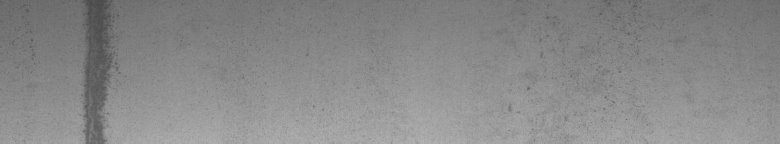hd: (77, 4, 121, 136)
